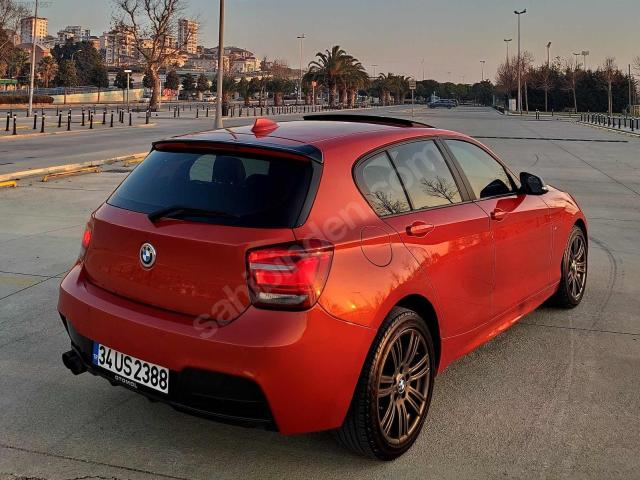plaka: (93, 342, 169, 394)
